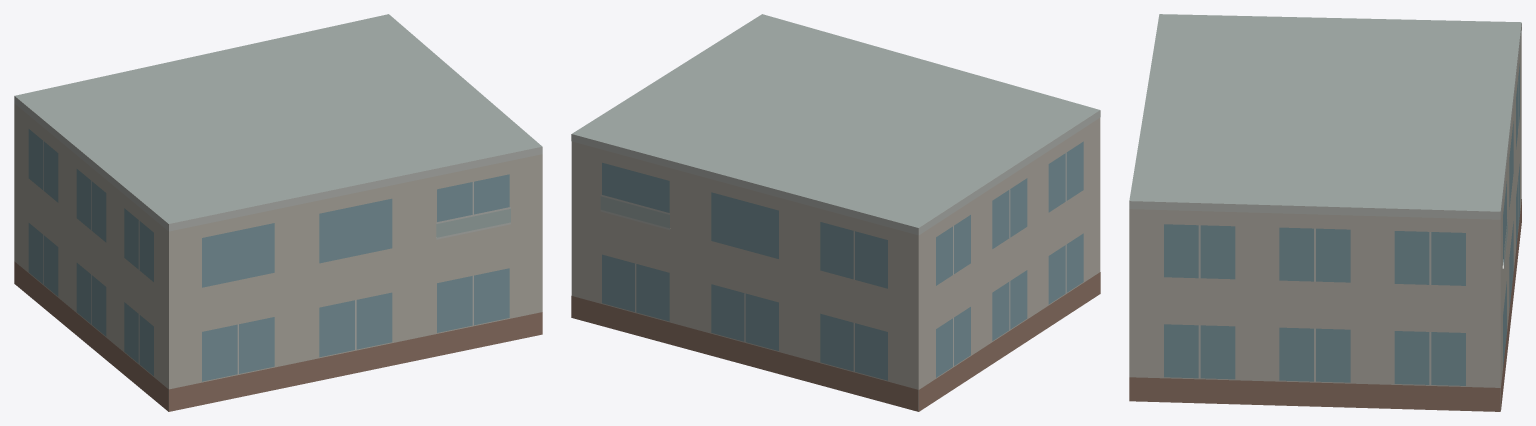
The model's file is survey-upis-32671880.glb.
3 views of the same model, side by side, from view 1: azimuth 30°, elevation 25°; view 2: azimuth 150°, elevation 25°; view 3: azimuth 270°, elevation 25° (orthographic). The views are drawn at different scales.
Visible parts, largest first — view 1: survey-upis-32671880.tmp; view 2: survey-upis-32671880.tmp; view 3: survey-upis-32671880.tmp.
Boxes of the visible parts, bbox=[...] form: survey-upis-32671880.tmp: bbox=[14, 14, 542, 411]; survey-upis-32671880.tmp: bbox=[571, 14, 1100, 411]; survey-upis-32671880.tmp: bbox=[1129, 14, 1521, 411].
Size of the model in its own units: 12.94 by 6.1 by 10.85.
